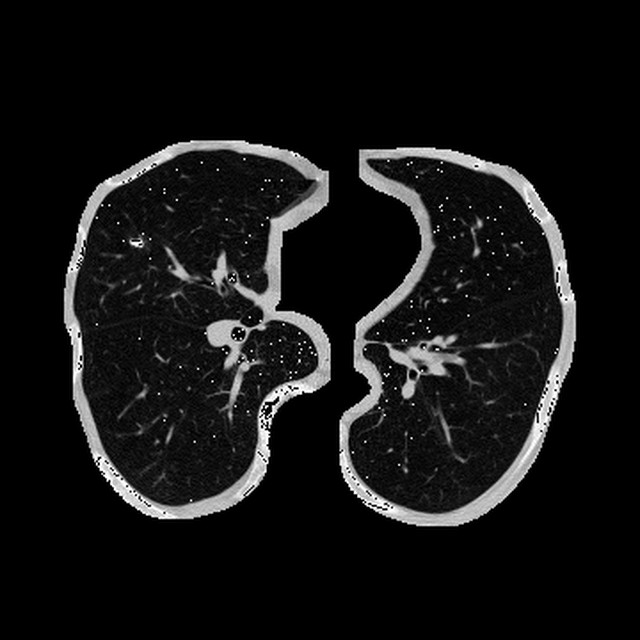PN: (130, 235, 144, 249)
